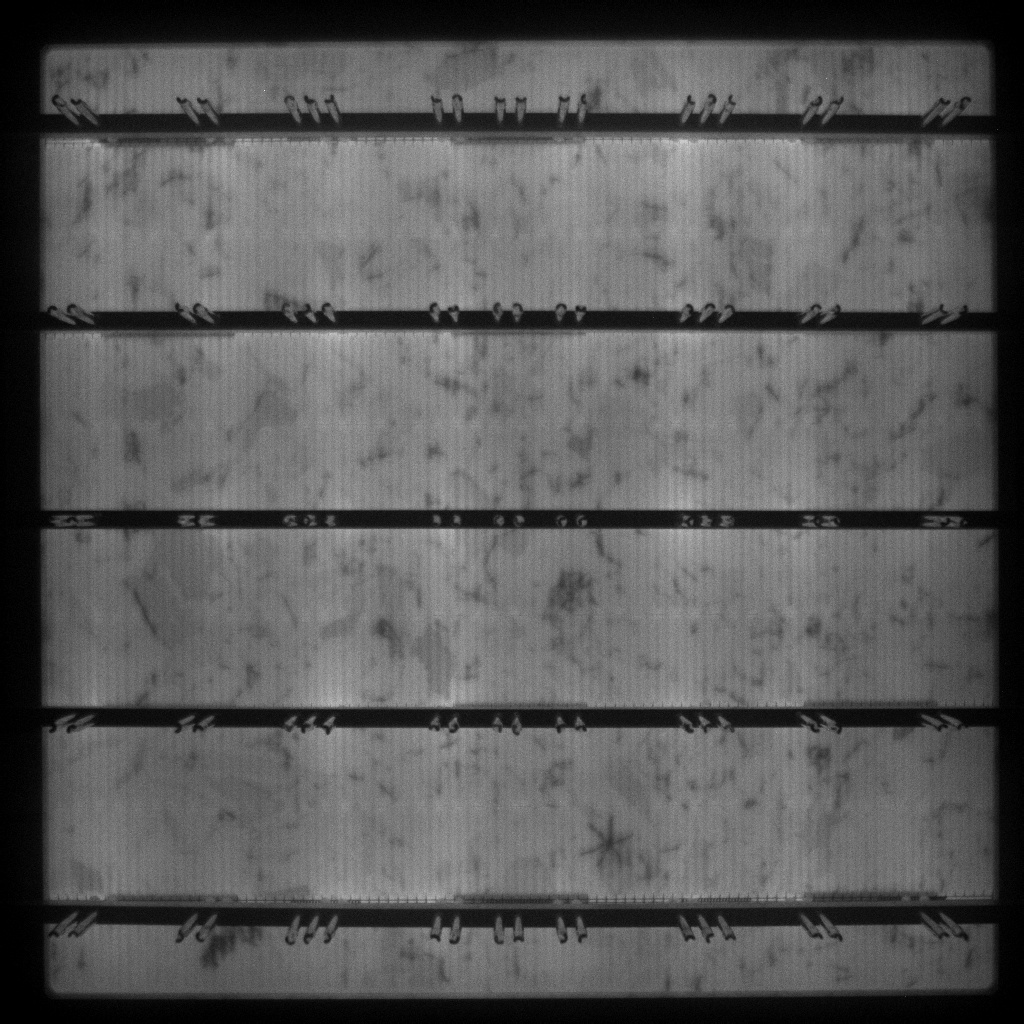crack: (583, 813, 636, 870)
